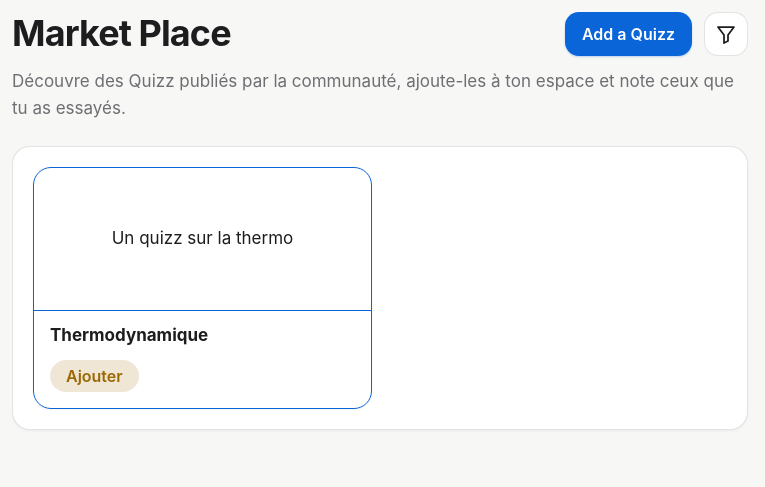
Test case: MarketplacePage › subscribes to a listing directly from the Pix badge
This screenshot has width=765, height=487.
Click the button with aria-label "Ajouter à mon espace" at (94, 376), box 50,360 -> 139,392
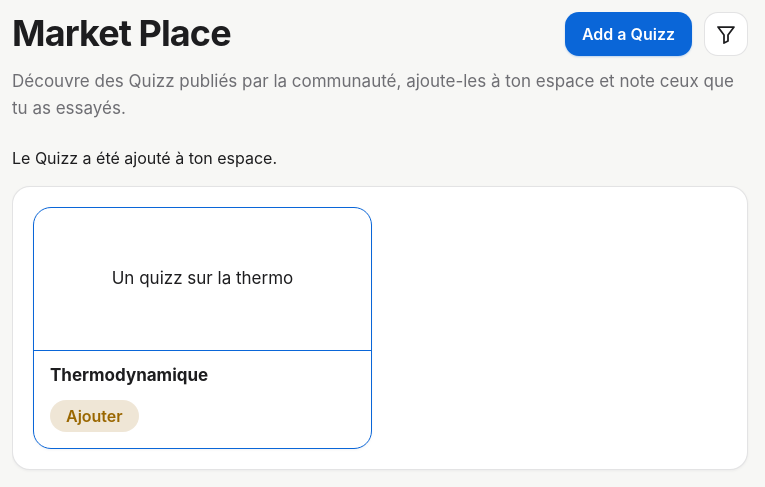
Expected: the text "Le Quizz a été ajouté à ton espace." is shown, 12,148 -> 277,168
